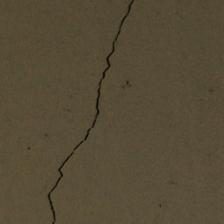Crack: (47, 4, 136, 223)
